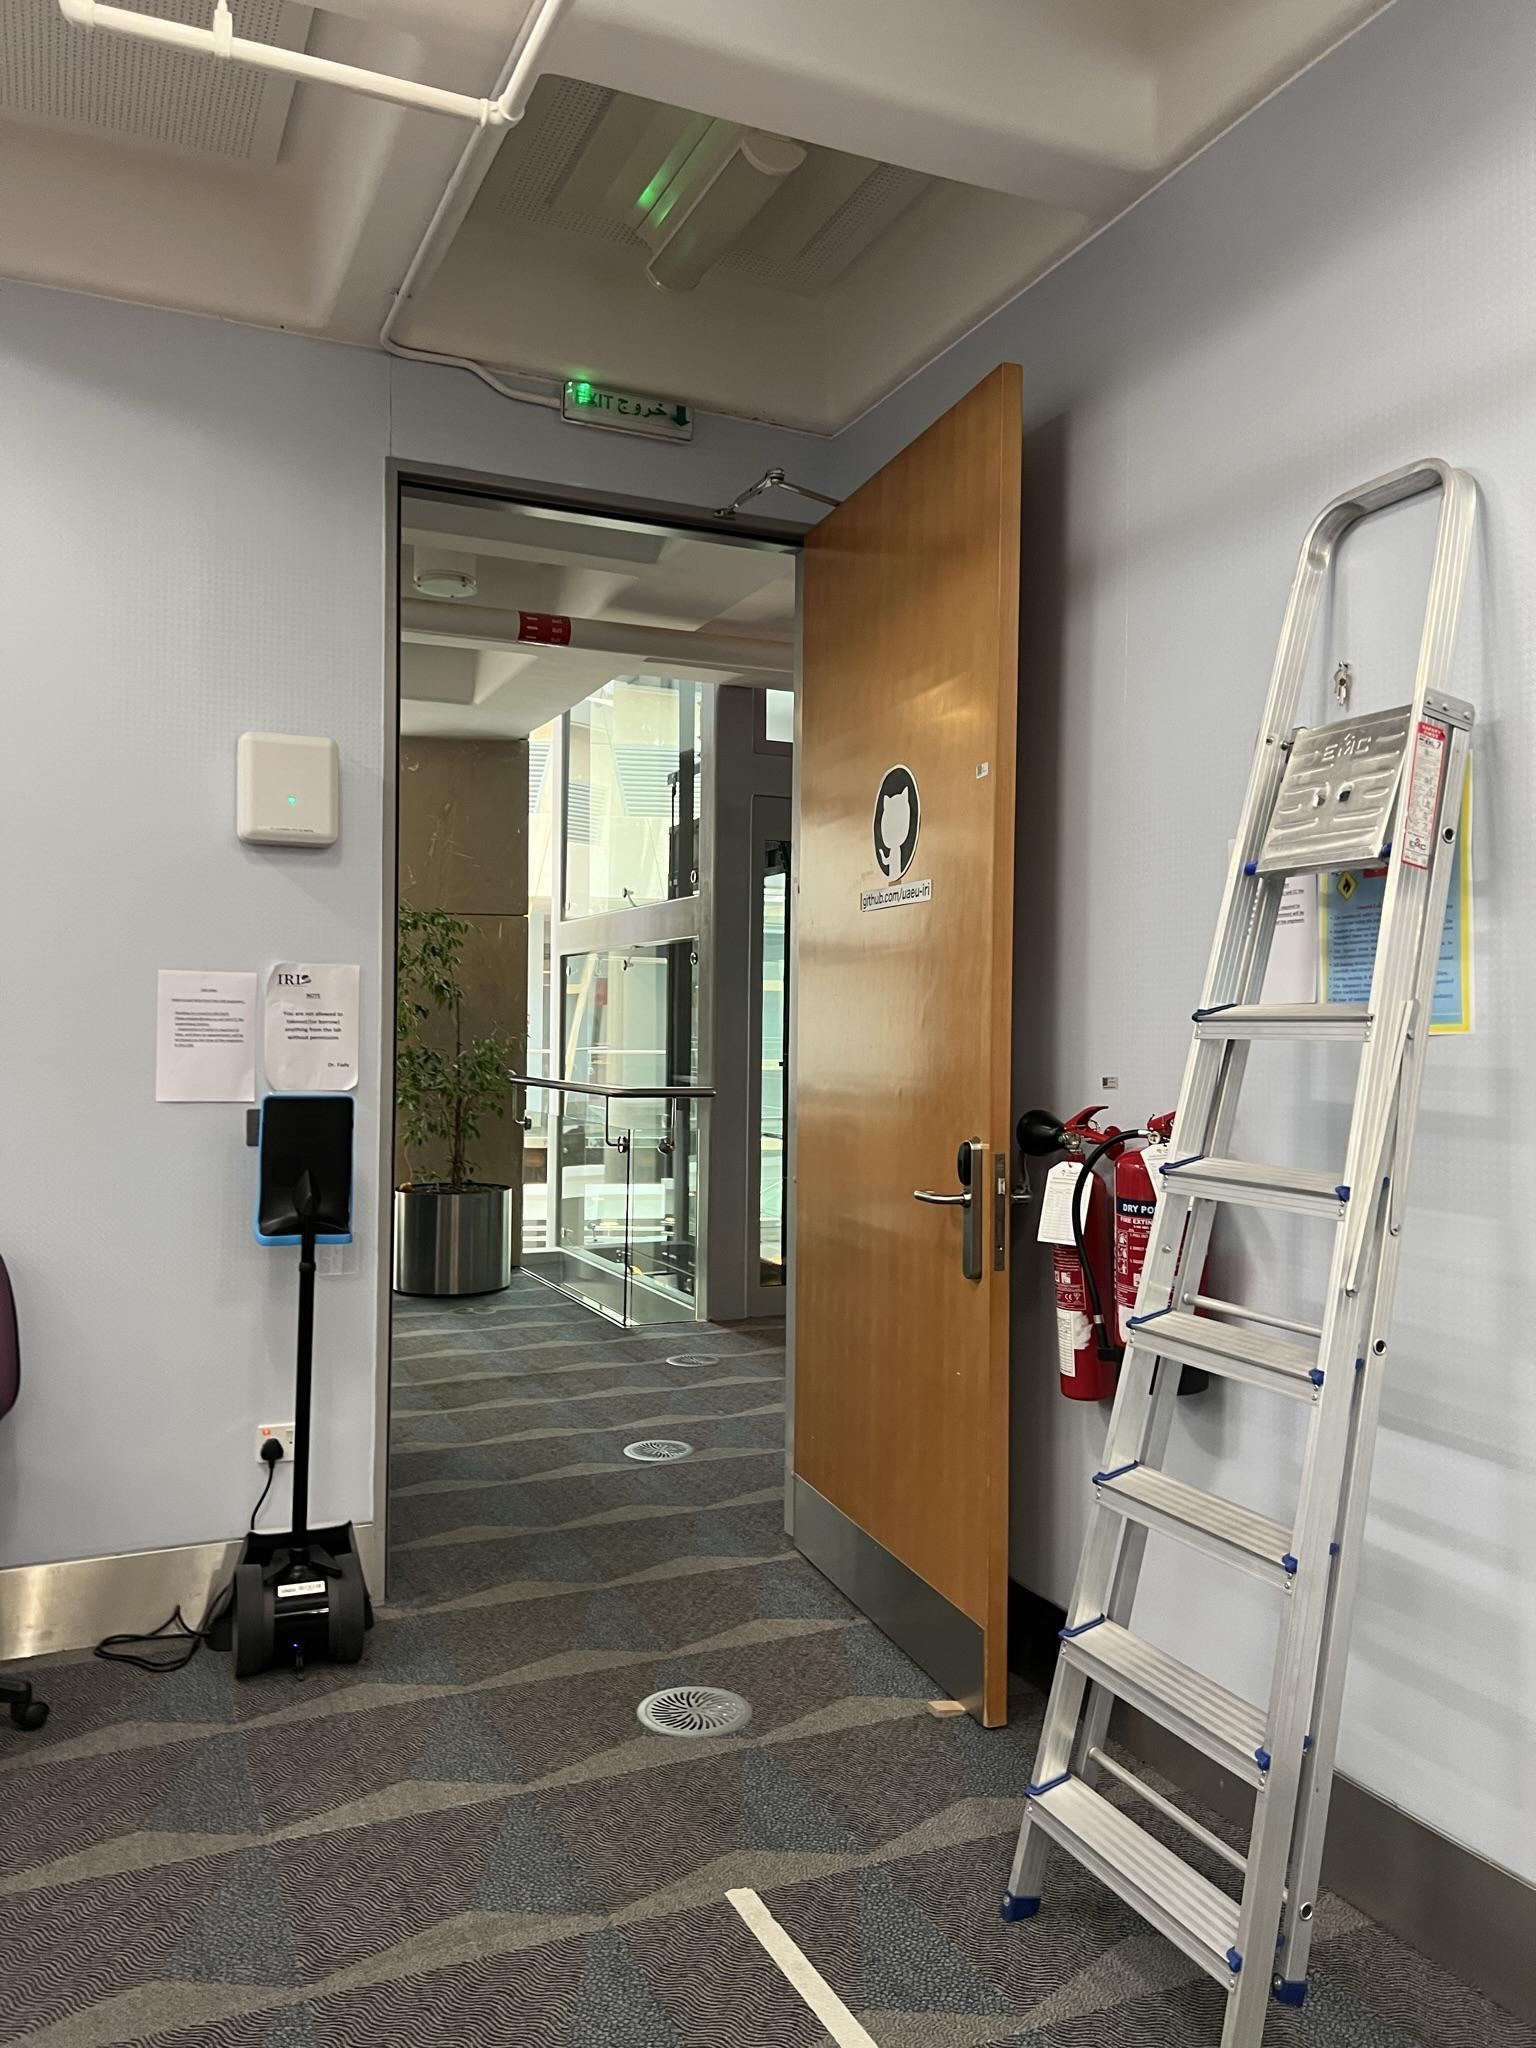door: (797, 402, 1037, 1693)
handle: (921, 1130, 997, 1306)
